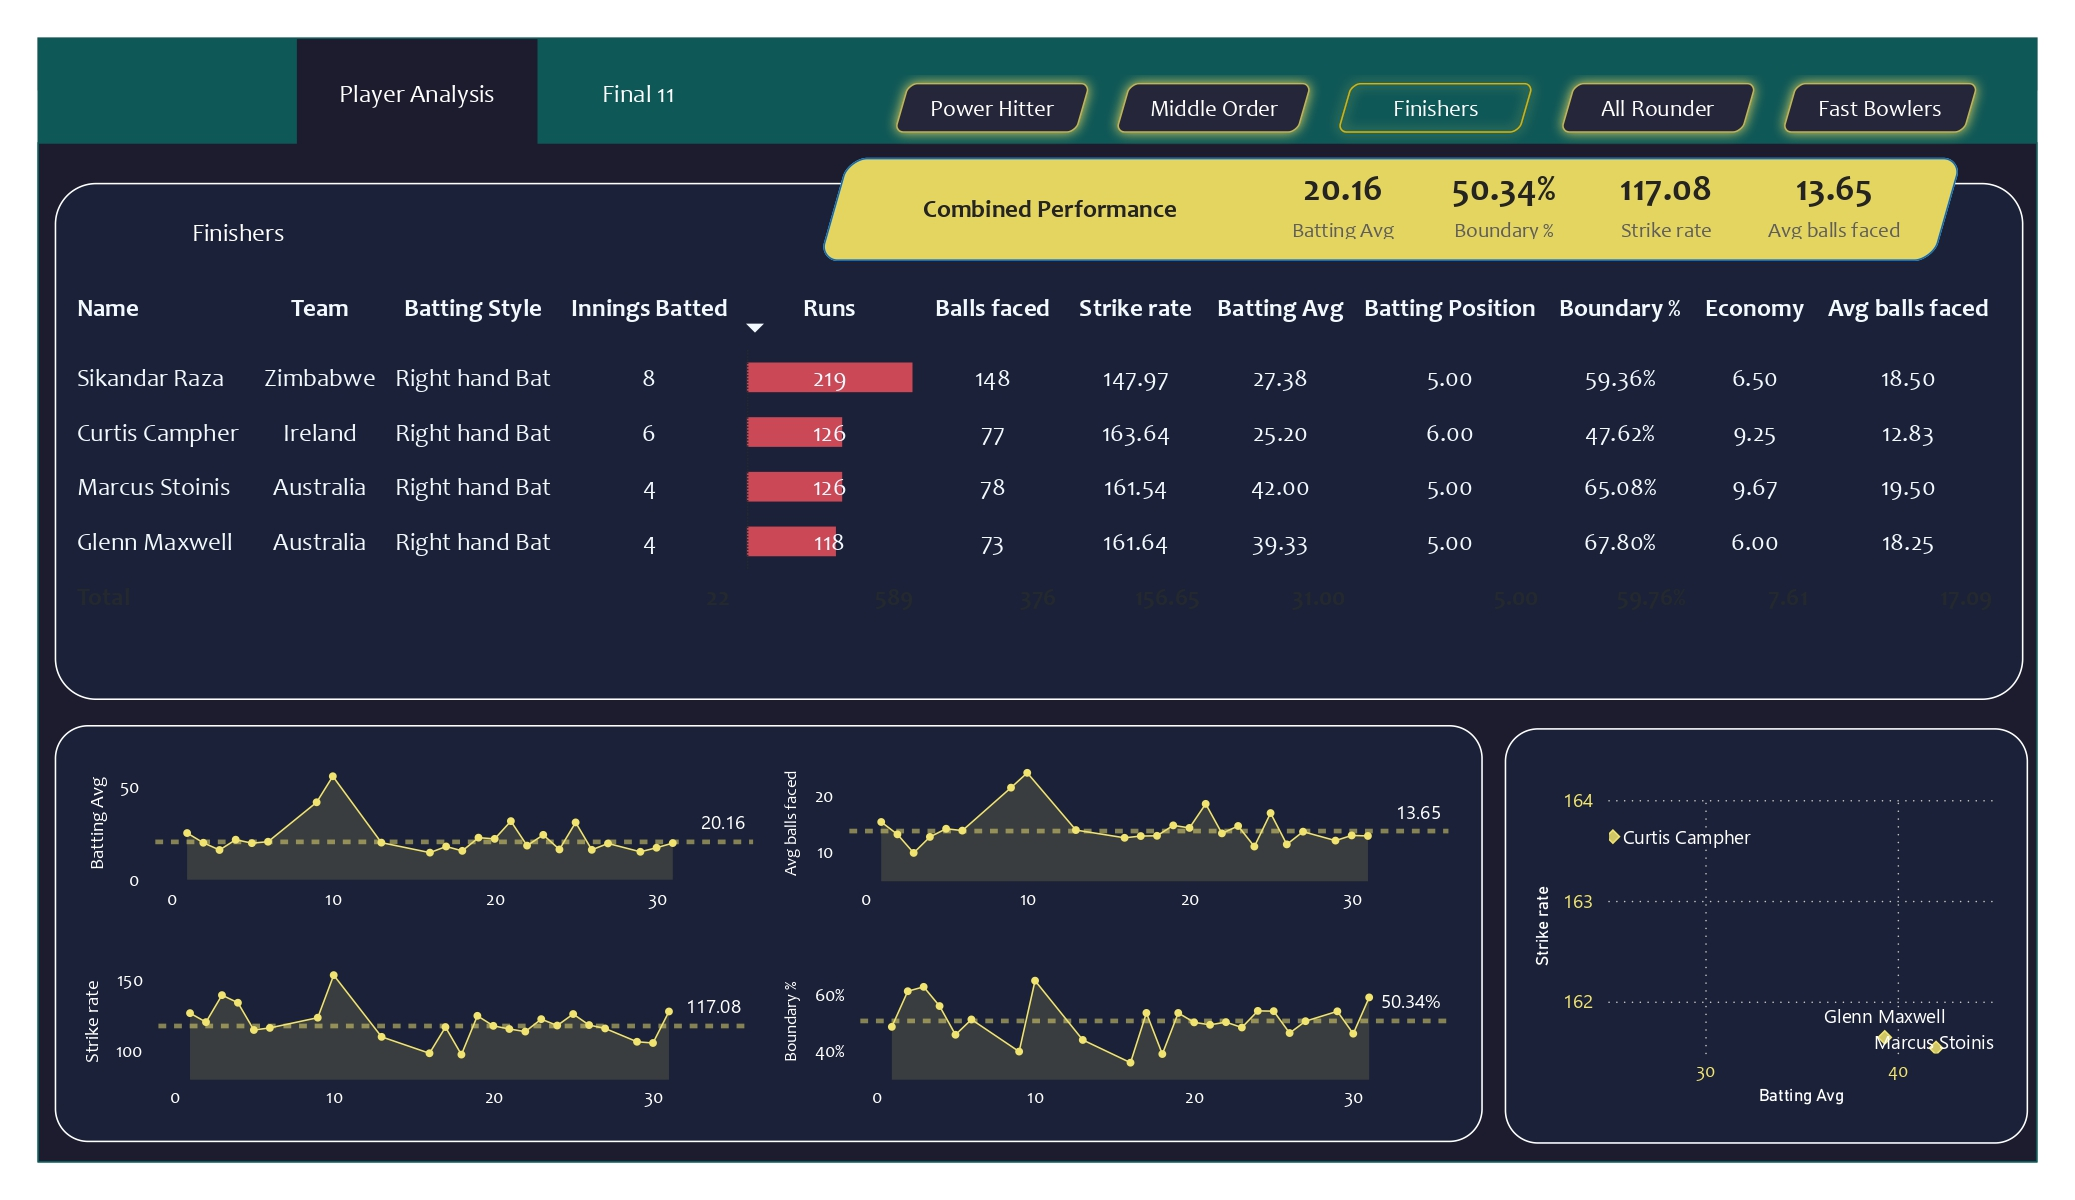

This screenshot's page, from the dashboard's own definition file:
{"tool":"powerbi","page":{"name":"Finishers","canvas":[1280,720],"ordinal":2},"visuals":[{"type":"shape","box":[0,67.2,1280.3,653.2],"z":0},{"type":"shape","box":[939,441.9,335,266.6],"z":1000},{"type":"tableEx","fields":{"Values":["dim_players.Name","dim_players.Team","dim_players.Batting Style","Key_measures.Total Innings Batted","Key_measures.Total_Runs","Key_measures.Total balls faced","Key_measures.Strike rate","Key_measures.Batting Avg","Key_measures.Batting Position","Key_measures.Boundary %","Key_measures.Economy","Key_measures.Avg balls faced"]},"box":[13.6,149.8,1252.8,233.2],"z":2000},{"type":"scatterChart","fields":{"Category":["dim_players.Name"],"X":["Key_measures.Batting Avg"],"Y":["Key_measures.Strike rate"]},"box":[952.5,473.8,311.2,213.8],"z":3000},{"type":"shape","box":[540.3,20.6,142,48],"z":4000},{"type":"shape","box":[682.3,20.6,142,48],"z":5000},{"type":"shape","box":[11,93.3,1259.7,330.7],"z":6000},{"type":"shape","box":[824.3,20.6,142,48],"z":7000},{"type":"shape","box":[966.4,20.6,142,48],"z":8000},{"type":"shape","box":[1108.1,20.6,142,48],"z":9000},{"type":"shape","box":[37,103.3,182.5,42.5],"z":10000},{"type":"shape","box":[500.5,76.8,731.4,65.9],"z":11000},{"type":"card","fields":{"Values":["Key_measures.Avg balls faced"]},"box":[1089.1,74.4,122.1,60],"z":12000},{"type":"card","fields":{"Values":["Key_measures.Boundary %"]},"box":[882.4,74.4,112.5,60],"z":13000},{"type":"card","fields":{"Values":["Key_measures.Strike rate"]},"box":[988.5,74.4,107,60],"z":14000},{"type":"card","fields":{"Values":["Key_measures.Batting Avg"]},"box":[781.8,74.4,107,60],"z":15000},{"type":"shape","box":[534.8,91.9,226.4,34.3],"z":16000},{"type":"shape","box":[11,440.5,913.9,266.2],"z":17000},{"type":"areaChart","fields":{"Y":["Key_measures.Batting Avg"],"Category":["dim_match_summary.matchDate.Variation.Date Hierarchy.Day"]},"box":[27.7,452.7,435,115],"z":18000},{"type":"areaChart","fields":{"Category":["dim_match_summary.matchDate.Variation.Date Hierarchy.Day"],"Y":["Key_measures.Avg balls faced"]},"box":[473.2,453,435,115.3],"z":19000},{"type":"areaChart","fields":{"Category":["dim_match_summary.matchDate.Variation.Date Hierarchy.Day"],"Y":["Key_measures.Strike rate"]},"box":[25.2,580.3,435,115],"z":20000},{"type":"areaChart","fields":{"Y":["Key_measures.Boundary %"],"Category":["dim_match_summary.matchDate.Variation.Date Hierarchy.Day"]},"box":[473.1,580.3,435,115],"z":21000},{"type":"actionButton","box":[166,1.4,153.7,67.2],"z":22000},{"type":"actionButton","box":[319.7,1.4,129,67.2],"z":23000}]}

Visuals, with their boxes on the page's 1280x720 design canvas (x1, y1, x2, y2). These are canvas units, not pixel positions in the 2075x1200 screenshot, which may show the page scaled, cropped or inside an application window:
shape: l=0, t=67, r=1280, b=720
shape: l=939, t=442, r=1274, b=708
tableEx - dim_players.Name x dim_players.Team: l=14, t=150, r=1266, b=383
scatterChart - dim_players.Name x Key_measures.Batting Avg: l=952, t=474, r=1264, b=688
shape: l=540, t=21, r=682, b=69
shape: l=682, t=21, r=824, b=69
shape: l=11, t=93, r=1271, b=424
shape: l=824, t=21, r=966, b=69
shape: l=966, t=21, r=1108, b=69
shape: l=1108, t=21, r=1250, b=69
shape: l=37, t=103, r=220, b=146
shape: l=500, t=77, r=1232, b=143
card - Key_measures.Avg balls faced: l=1089, t=74, r=1211, b=134
card - Key_measures.Boundary %: l=882, t=74, r=995, b=134
card - Key_measures.Strike rate: l=988, t=74, r=1096, b=134
card - Key_measures.Batting Avg: l=782, t=74, r=889, b=134
shape: l=535, t=92, r=761, b=126
shape: l=11, t=440, r=925, b=707
areaChart - Key_measures.Batting Avg x dim_match_summary.matchDate.Variation.Date Hierarchy.Day: l=28, t=453, r=463, b=568
areaChart - dim_match_summary.matchDate.Variation.Date Hierarchy.Day x Key_measures.Avg balls faced: l=473, t=453, r=908, b=568
areaChart - dim_match_summary.matchDate.Variation.Date Hierarchy.Day x Key_measures.Strike rate: l=25, t=580, r=460, b=695
areaChart - Key_measures.Boundary % x dim_match_summary.matchDate.Variation.Date Hierarchy.Day: l=473, t=580, r=908, b=695
actionButton: l=166, t=1, r=320, b=69
actionButton: l=320, t=1, r=449, b=69
